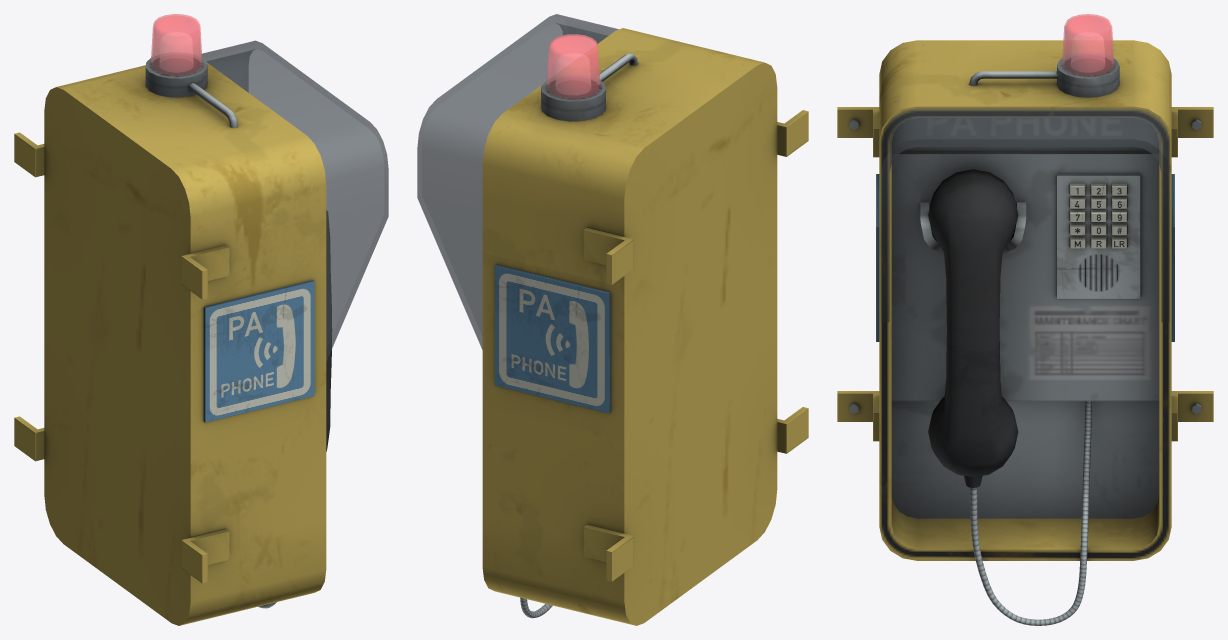
3 views of the same model, side by side, from view 1: azimuth 30°, elevation 25°; view 2: azimuth 150°, elevation 25°; view 3: azimuth 270°, elevation 25° (orthographic). The views are drawn at different scales.
Visible parts, largest first — view 1: wallphone; view 2: wallphone; view 3: wallphone.
Part boxes in pixels (x1,y1,x2,y2): wallphone: [14, 14, 388, 625]; wallphone: [417, 14, 808, 625]; wallphone: [837, 14, 1213, 625].
Bounding box in the file's own units: 11.5 × 30.49 × 18.
3 materials, 3 textured.
